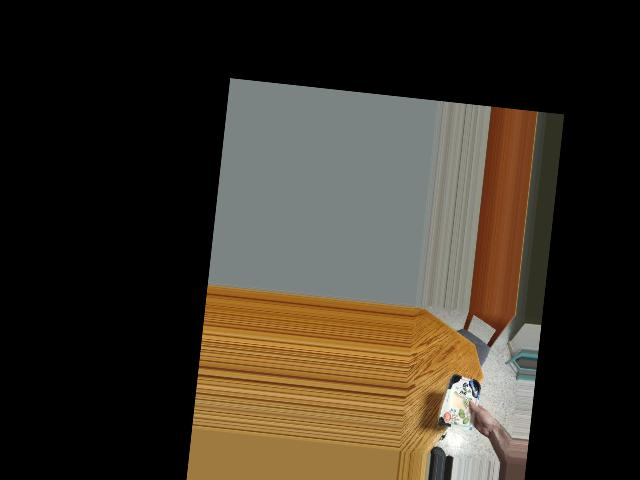cheese: (444, 374, 480, 426)
